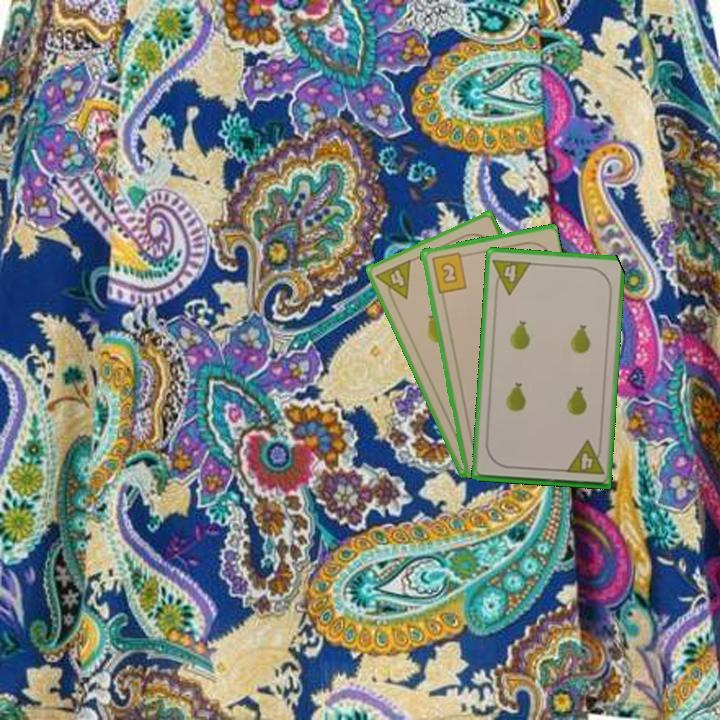2b: (428, 249, 470, 295)
4p: (372, 256, 414, 307), (489, 255, 534, 297), (562, 437, 606, 478)
